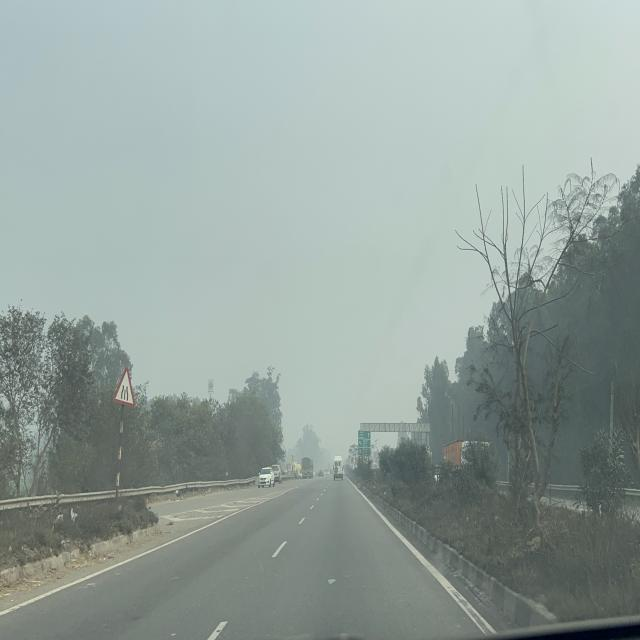NARROW_ROAD_AHEAD: (112, 365, 136, 409)
